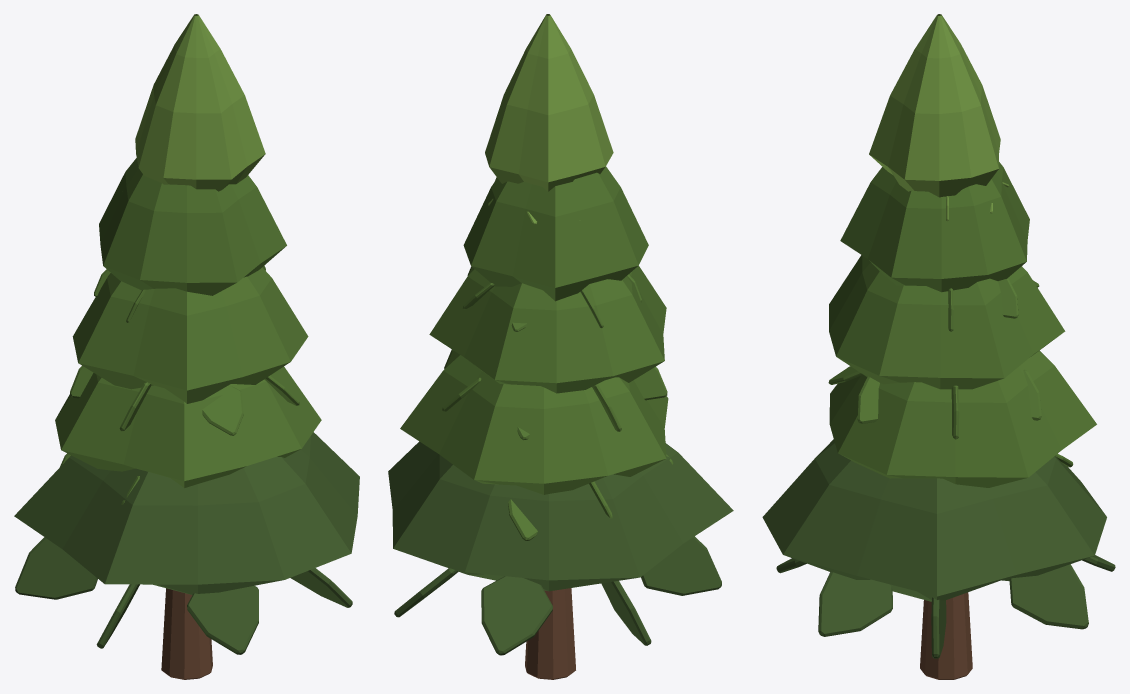
File: prop_pine_b.glb
3 renders of one model, left to right at view 1: azimuth 30°, elevation 25°; view 2: azimuth 150°, elevation 25°; view 3: azimuth 270°, elevation 25°, orthographic.
Parts seen in each view (by area): view 1: pnb_tier0, pnb_tier2, pnb_tier1, pnb_tier3, pnb_tier4, pnb_tier0_leaf5, pnb_trunk, pnb_tier0_leaf3, pnb_tier2_leaf5, pnb_tier0_leaf6, pnb_tier0_leaf4; view 2: pnb_tier0, pnb_tier1, pnb_tier2, pnb_tier3, pnb_tier4, pnb_tier0_leaf2, pnb_trunk, pnb_tier0_leaf4, pnb_tier0_leaf3, pnb_tier2_leaf4, pnb_tier0_leaf1, pnb_tier1_leaf2; view 3: pnb_tier0, pnb_tier1, pnb_tier2, pnb_tier3, pnb_tier4, pnb_tier0_leaf1, pnb_tier0_leaf6, pnb_trunk, pnb_tier2_leaf6, pnb_tier0_leaf0, pnb_tier3_leaf1.
Boxes of the visible parts, x1,y1,x2,y2 form: pnb_tier0: [14, 432, 359, 594]; pnb_tier2: [72, 267, 308, 403]; pnb_tier1: [55, 366, 321, 487]; pnb_tier3: [99, 158, 286, 295]; pnb_tier4: [135, 14, 265, 191]; pnb_tier0_leaf5: [187, 585, 258, 654]; pnb_trunk: [161, 588, 212, 679]; pnb_tier0_leaf3: [15, 537, 97, 599]; pnb_tier2_leaf5: [202, 386, 243, 435]; pnb_tier0_leaf6: [290, 568, 352, 607]; pnb_tier0_leaf4: [96, 584, 139, 648]; pnb_tier0: [388, 441, 733, 591]; pnb_tier1: [400, 355, 668, 494]; pnb_tier2: [429, 265, 666, 393]; pnb_tier3: [463, 166, 648, 301]; pnb_tier4: [485, 14, 613, 191]; pnb_tier0_leaf2: [481, 576, 552, 655]; pnb_trunk: [525, 588, 575, 679]; pnb_tier0_leaf4: [641, 536, 721, 595]; pnb_tier0_leaf3: [601, 581, 651, 645]; pnb_tier2_leaf4: [634, 366, 667, 400]; pnb_tier0_leaf1: [394, 568, 458, 617]; pnb_tier1_leaf2: [508, 499, 537, 540]; pnb_tier0: [762, 439, 1106, 601]; pnb_tier1: [829, 350, 1096, 487]; pnb_tier2: [829, 255, 1065, 389]; pnb_tier3: [840, 162, 1029, 292]; pnb_tier4: [869, 14, 1000, 197]; pnb_tier0_leaf1: [1009, 564, 1088, 629]; pnb_tier0_leaf6: [818, 571, 892, 636]; pnb_trunk: [920, 592, 972, 679]; pnb_tier2_leaf6: [857, 376, 879, 423]; pnb_tier0_leaf0: [931, 597, 946, 658]; pnb_tier3_leaf1: [998, 278, 1018, 318].
Size of the model in its own units: 1.39 by 2.87 by 1.39.
